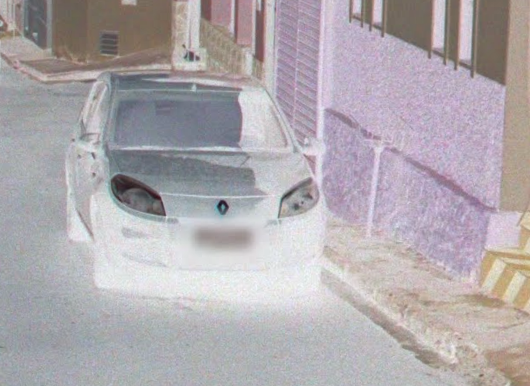car: (60, 57, 334, 294)
